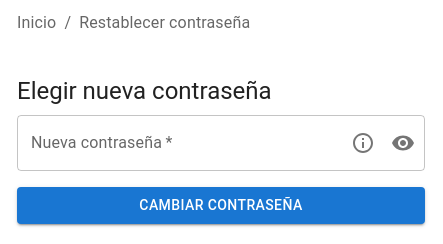
Test case: RestablecerPasswordForm (RF-38) › con token válido, envía la nueva contraseña y confirma el cambio
Type "Nueva-Clave-Lluvia-47" into the password field labelled "Nueva contraseña *" at (176,143), box [17,115,335,171]
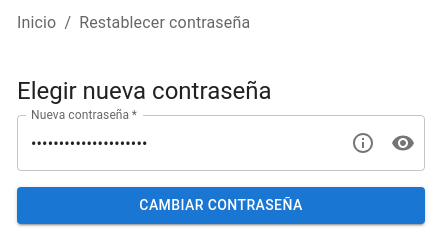
Click the button "Cambiar contraseña" at (221,206), box [17,187,425,224]
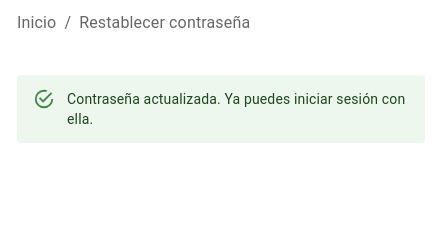
Result: the text "Contraseña actualizada. Ya puedes iniciar sesión con ella." is shown at [67,81,409,137]
